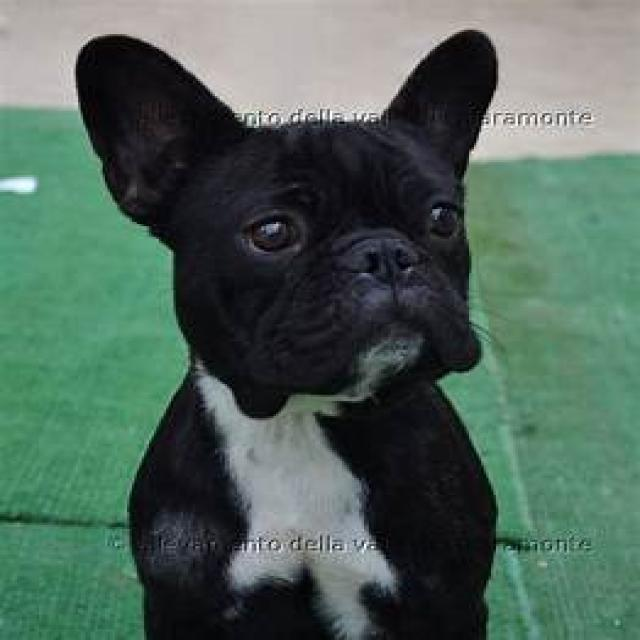dog: (76, 31, 495, 639)
